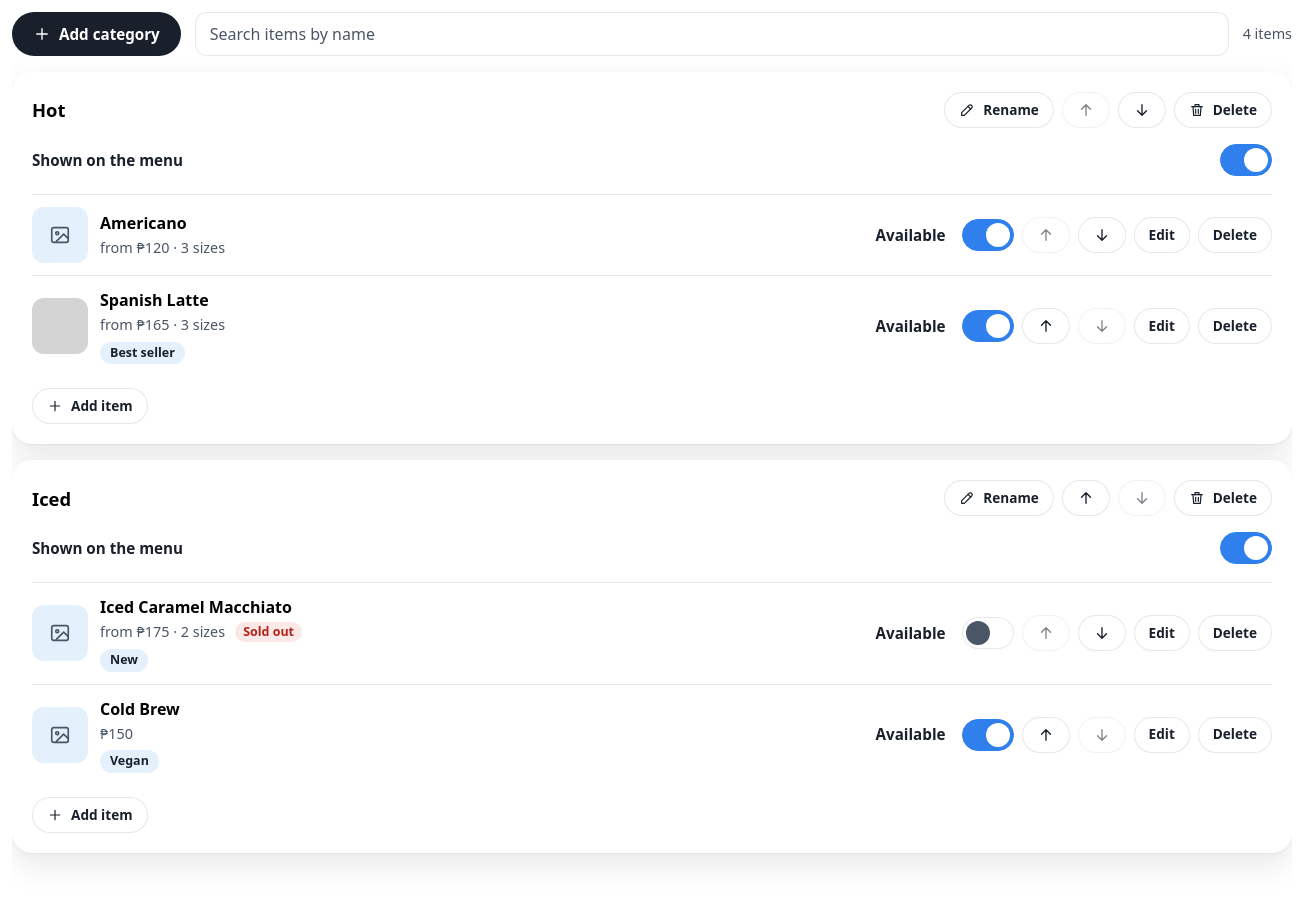
Test case: ItemsTab adds a category › refuses an empty name and a name already in use, next to the field
The image size is (1304, 912).
Click the button "Add category" at (96,34), box [12,12,181,56]
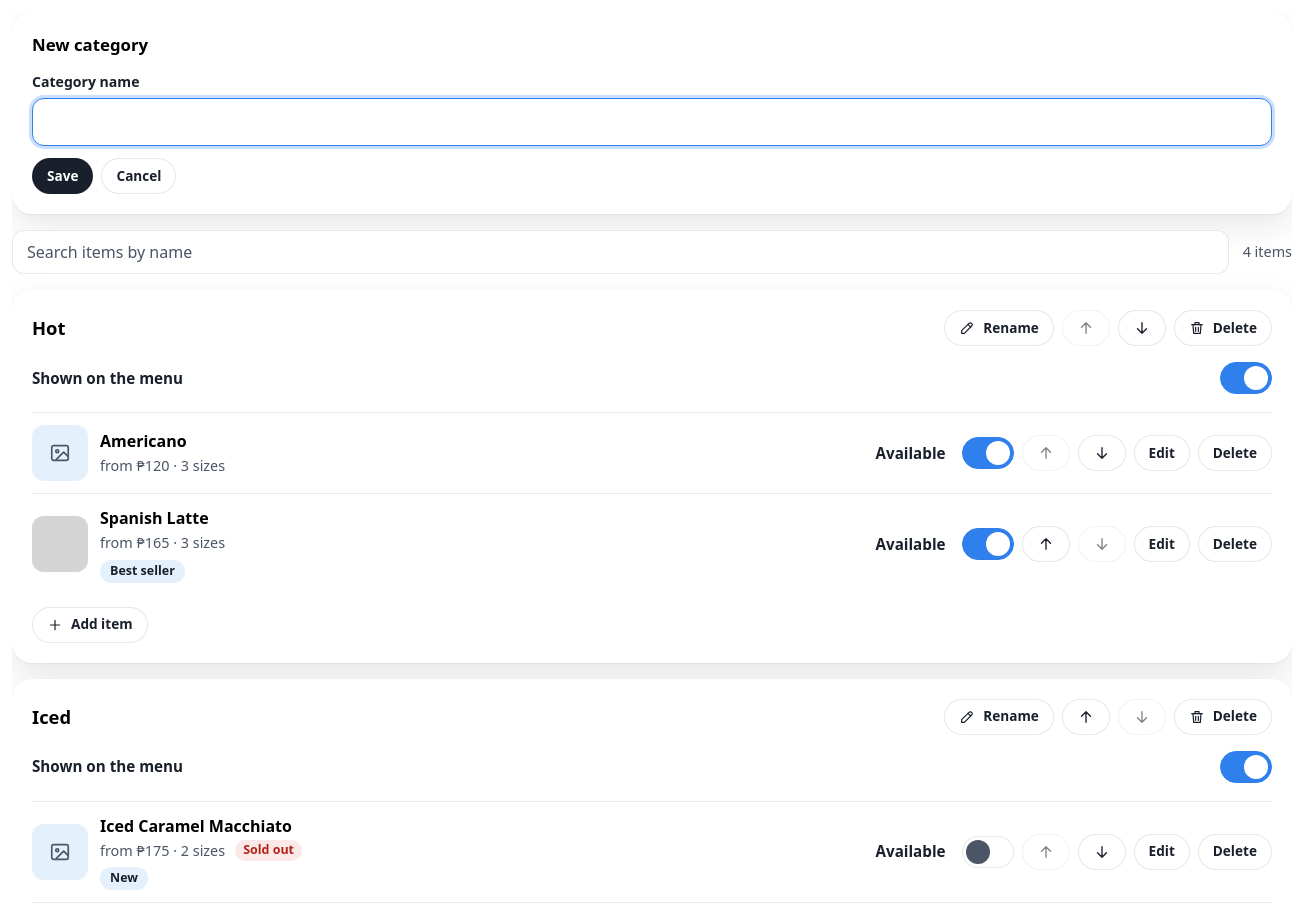
Click the button "Save" at (63,176), box [32,158,94,194]
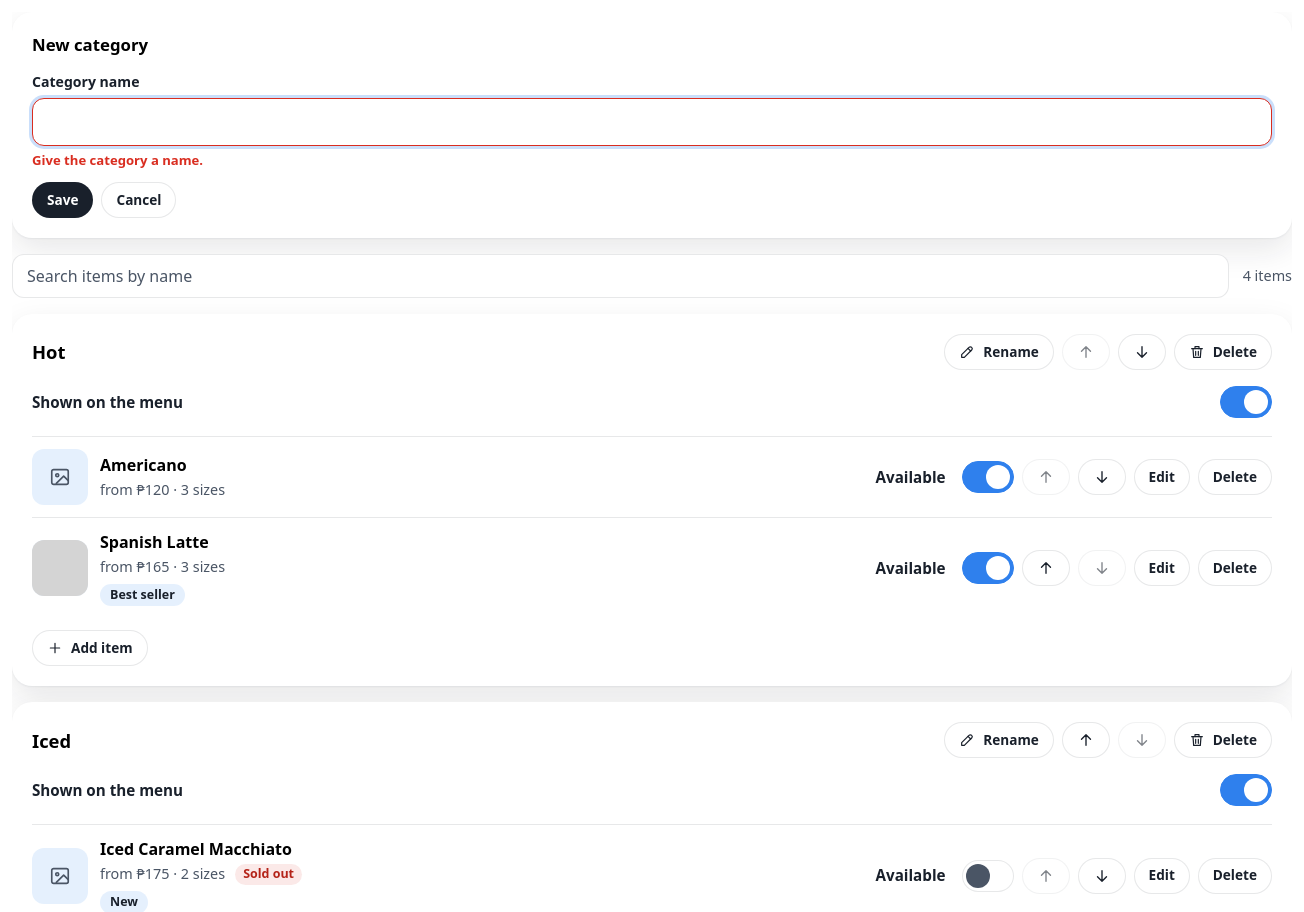
Result: the text "Give the category a name." is shown at [32,151,203,169]
Type "hot" into the field labelled "Category name" at (652,122), box [32,98,1272,146]
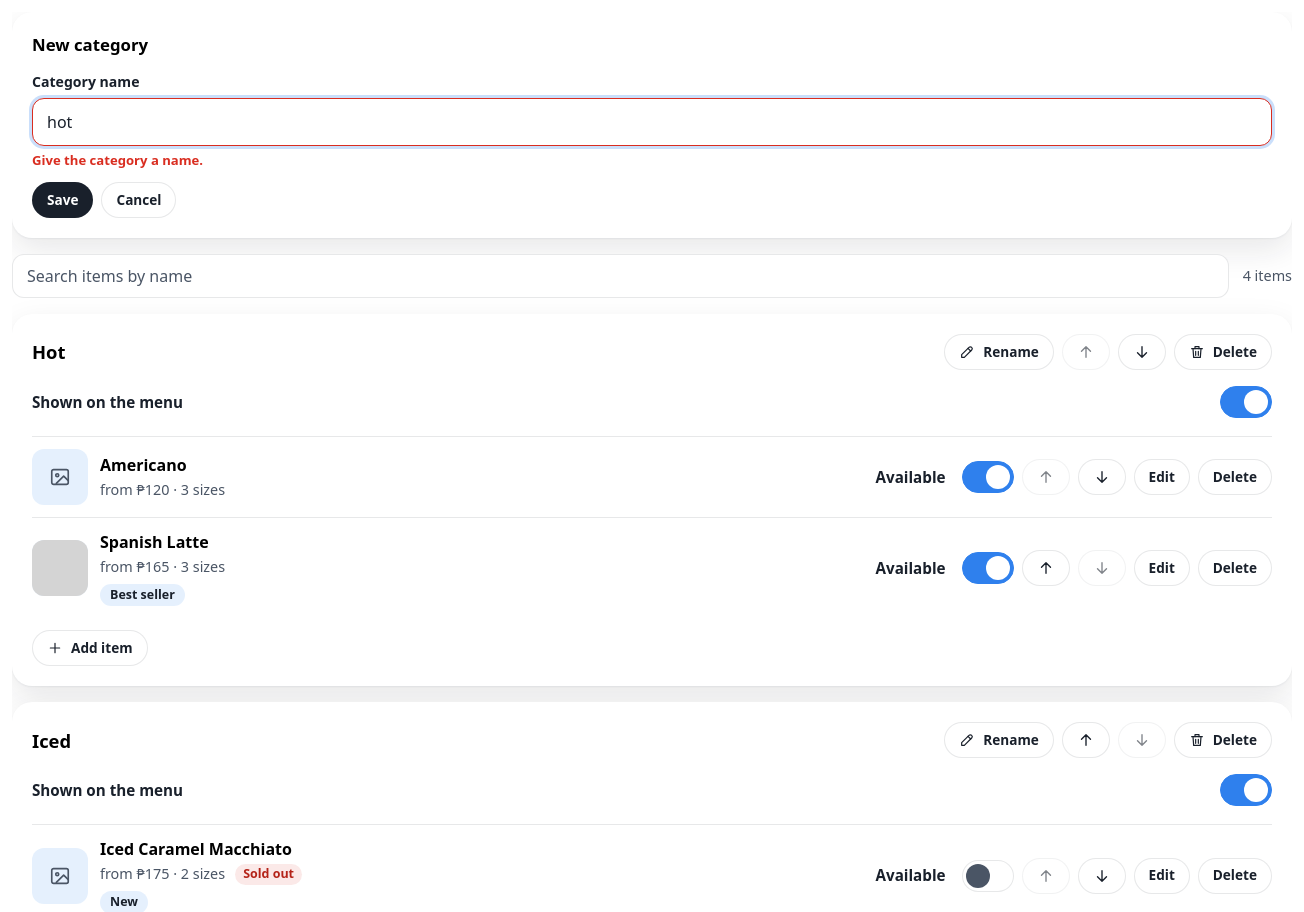
Click the button "Save" at (63,200), box [32,182,94,218]
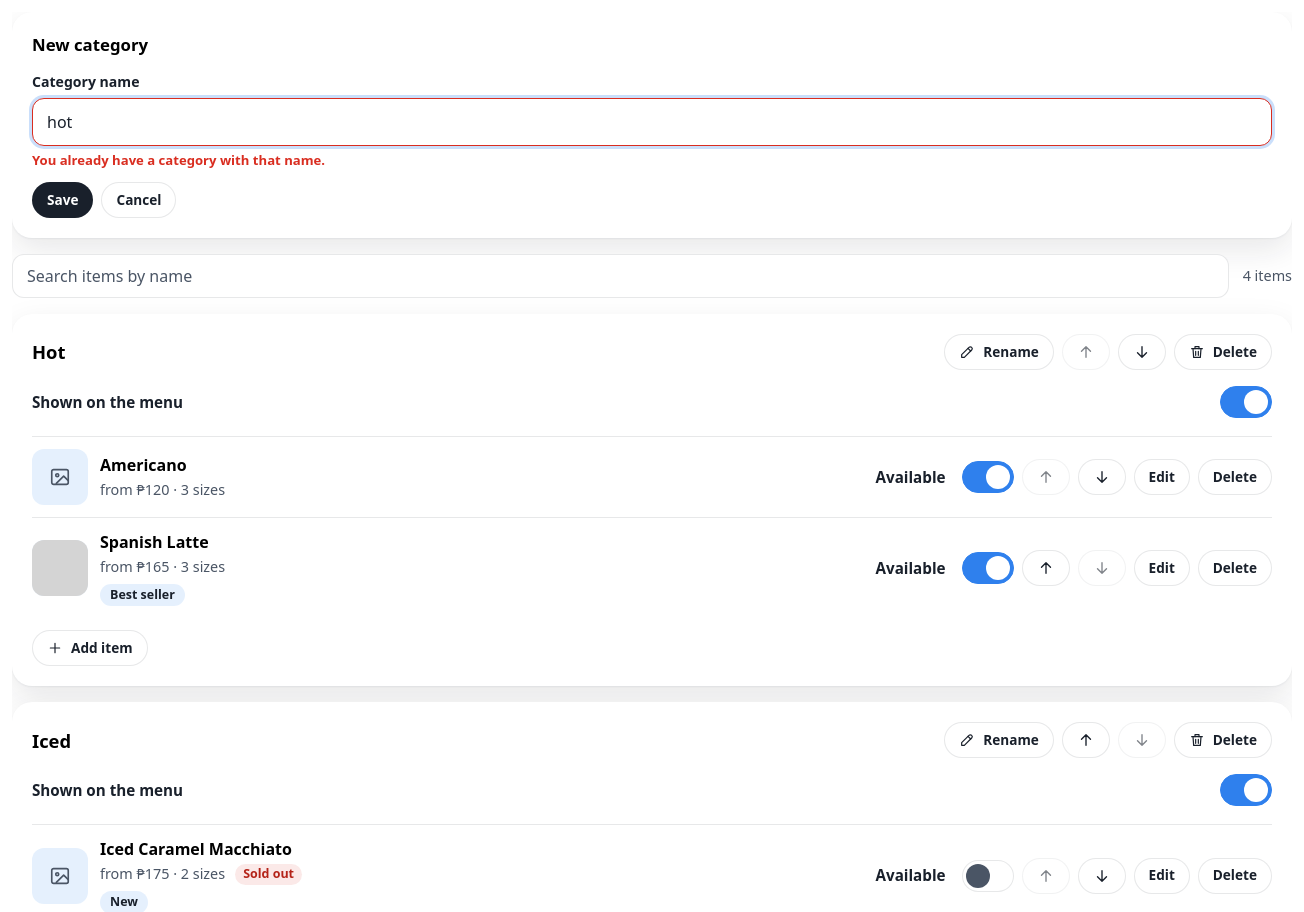
Result: the text "You already have a category with that name." is shown at [32,151,325,169]
